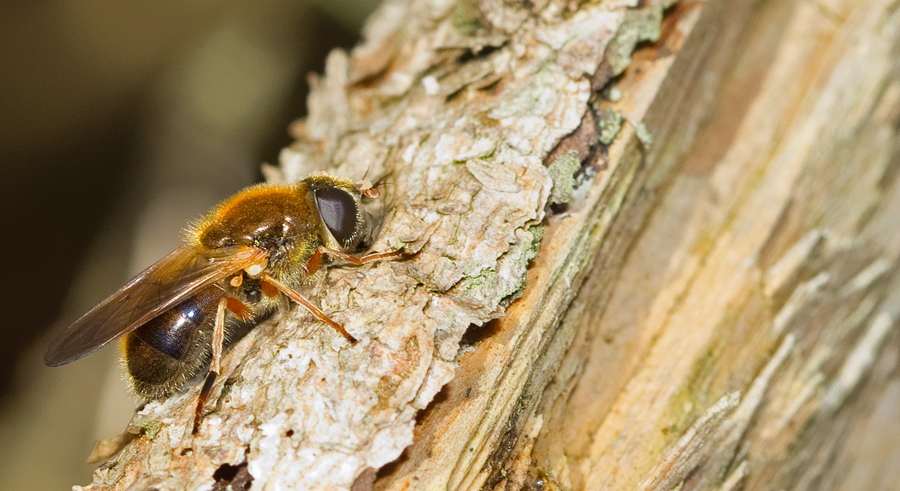not_bumblebee: (42, 166, 409, 438)
